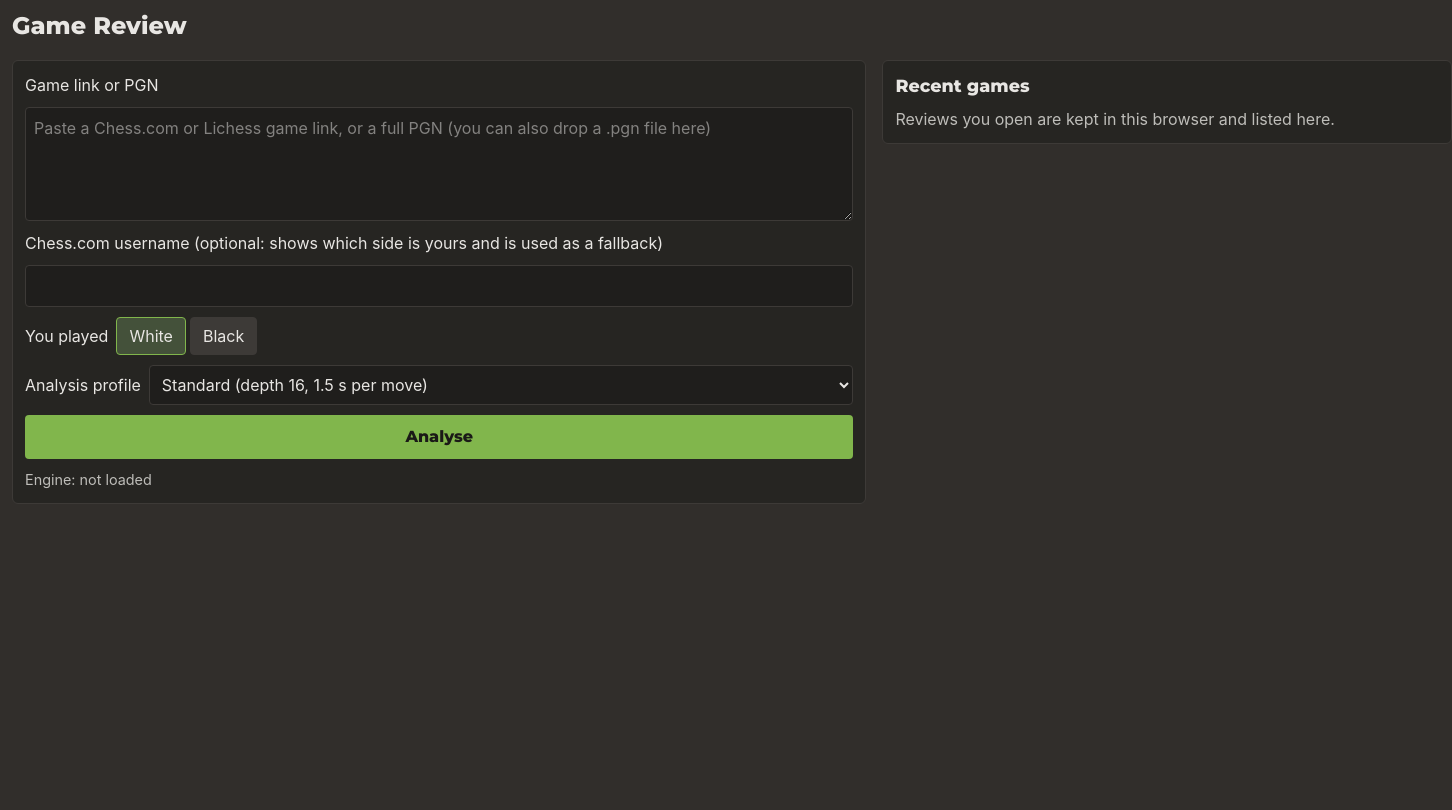
Scenario: error panel renders by key (G.6, Appendix F) › pgn_multiple lists the choices under I-33
Replace the text in the text box with test id "import-input" with "[Event \"x\"]": point(439, 164) [25,107,853,221]
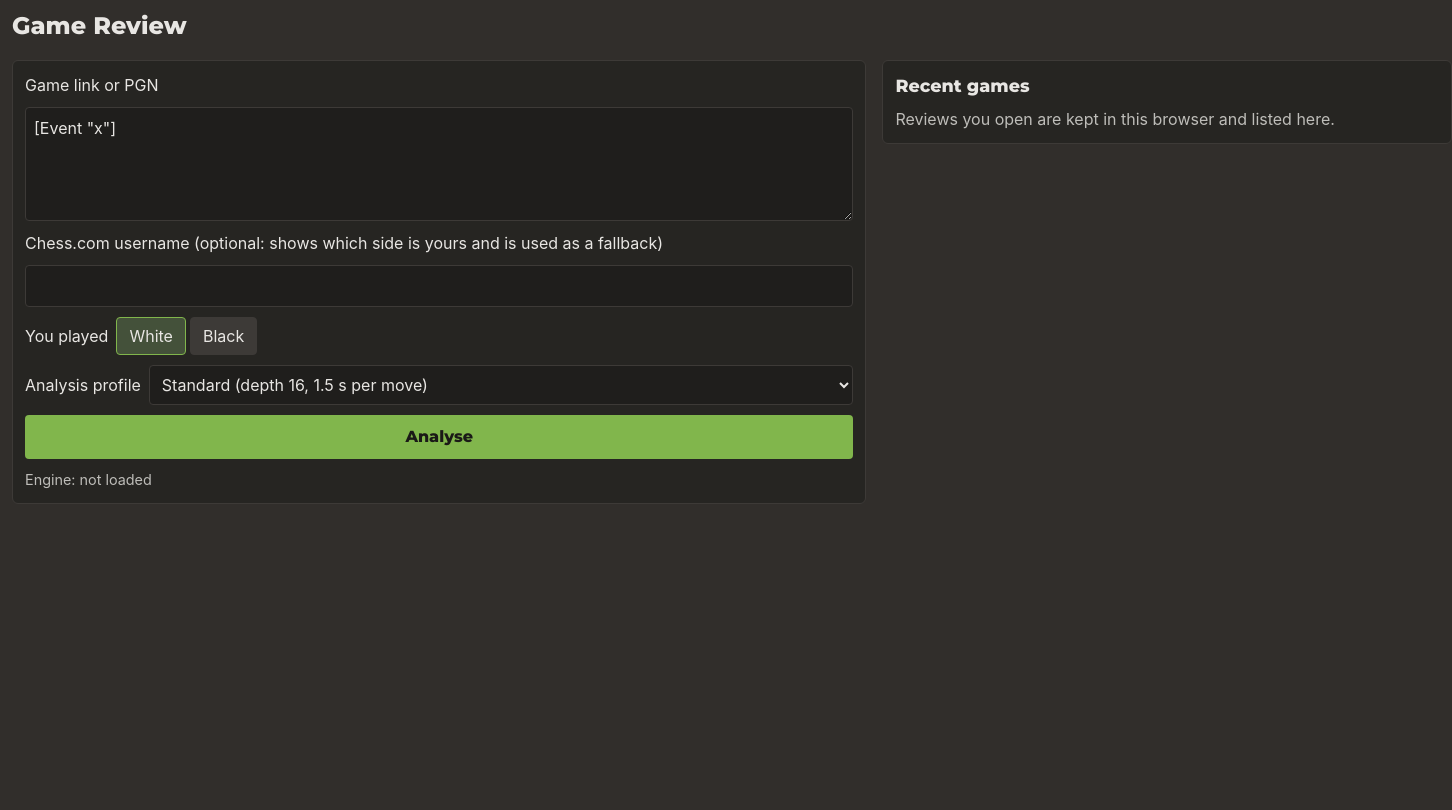
Click the button with test id "import-submit": point(439, 437) [25,415,853,459]
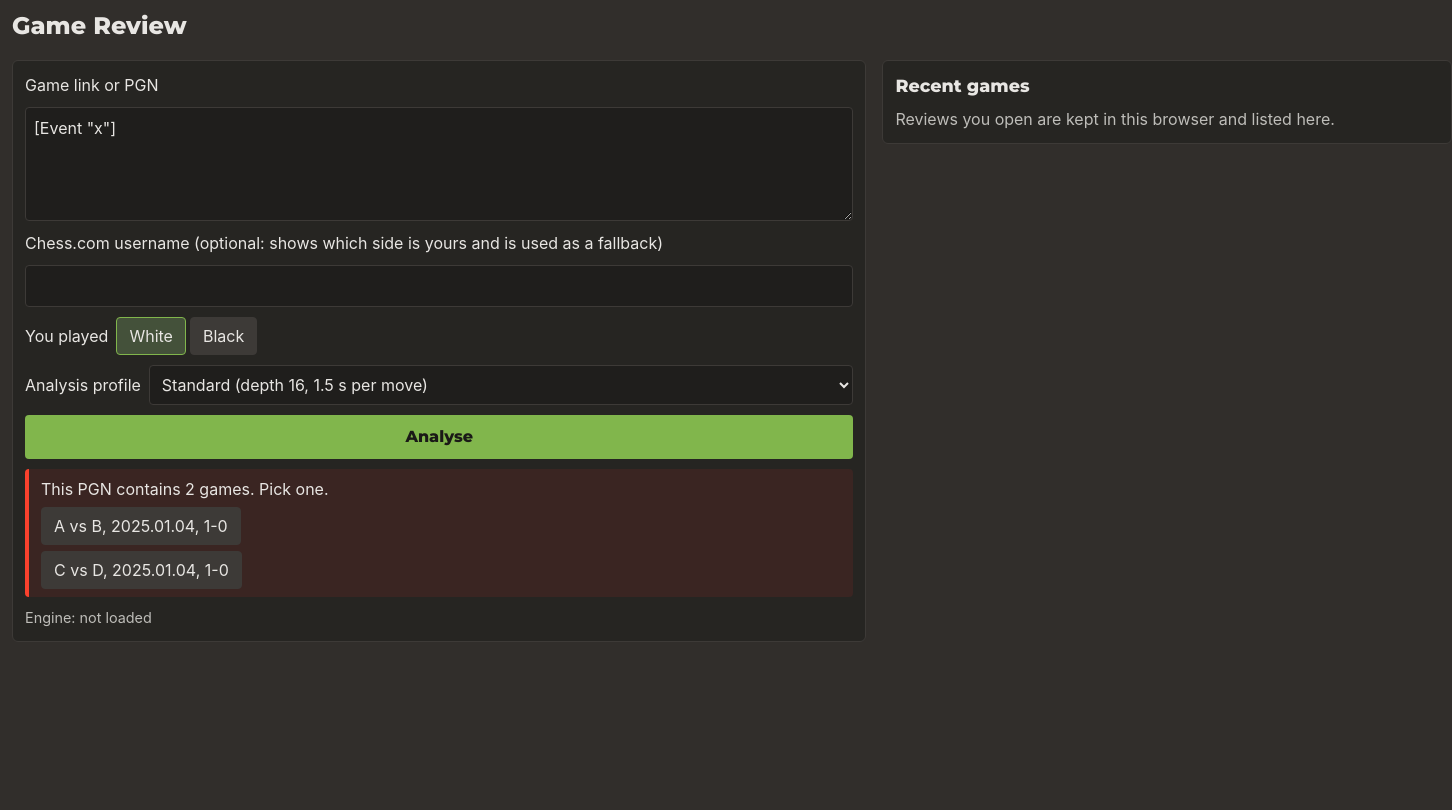
Check: the message with test id "import-error" shows "This PGN contains 2 games.", box [41,479,328,499]
Check: the button "A vs B, 2025.01.04, 1-0" is shown, box [41,507,241,545]
Check: the button "C vs D, 2025.01.04, 1-0" is shown, box [41,551,242,589]
